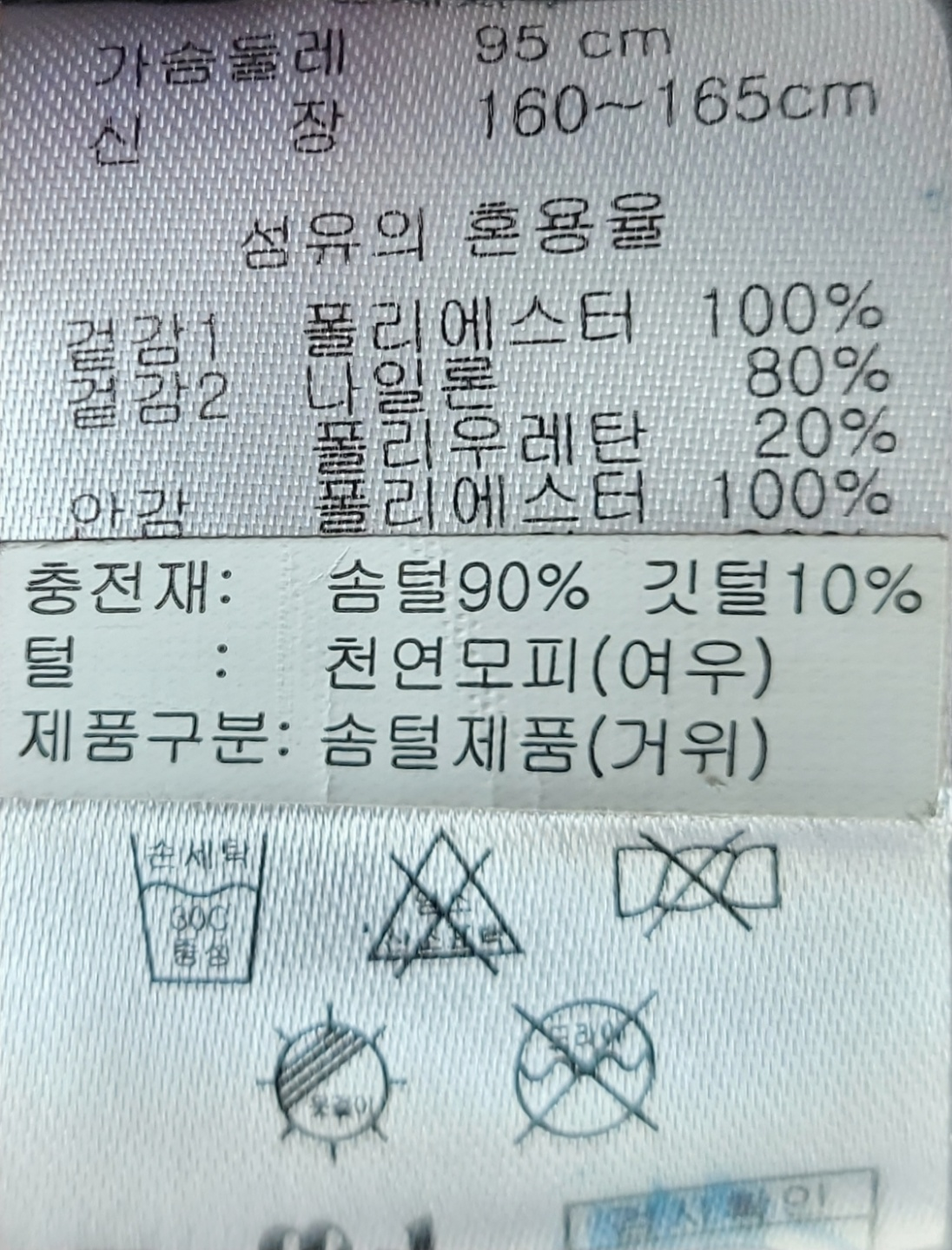KR_hand_wash_30_neutral: (120, 821, 276, 994)
KR_hang_dry_in_shade: (253, 991, 413, 1164)
KR_no_bleach: (356, 819, 531, 985)
KR_no_dry_clean: (497, 982, 673, 1160)
KR_no_wring: (604, 818, 792, 955)
